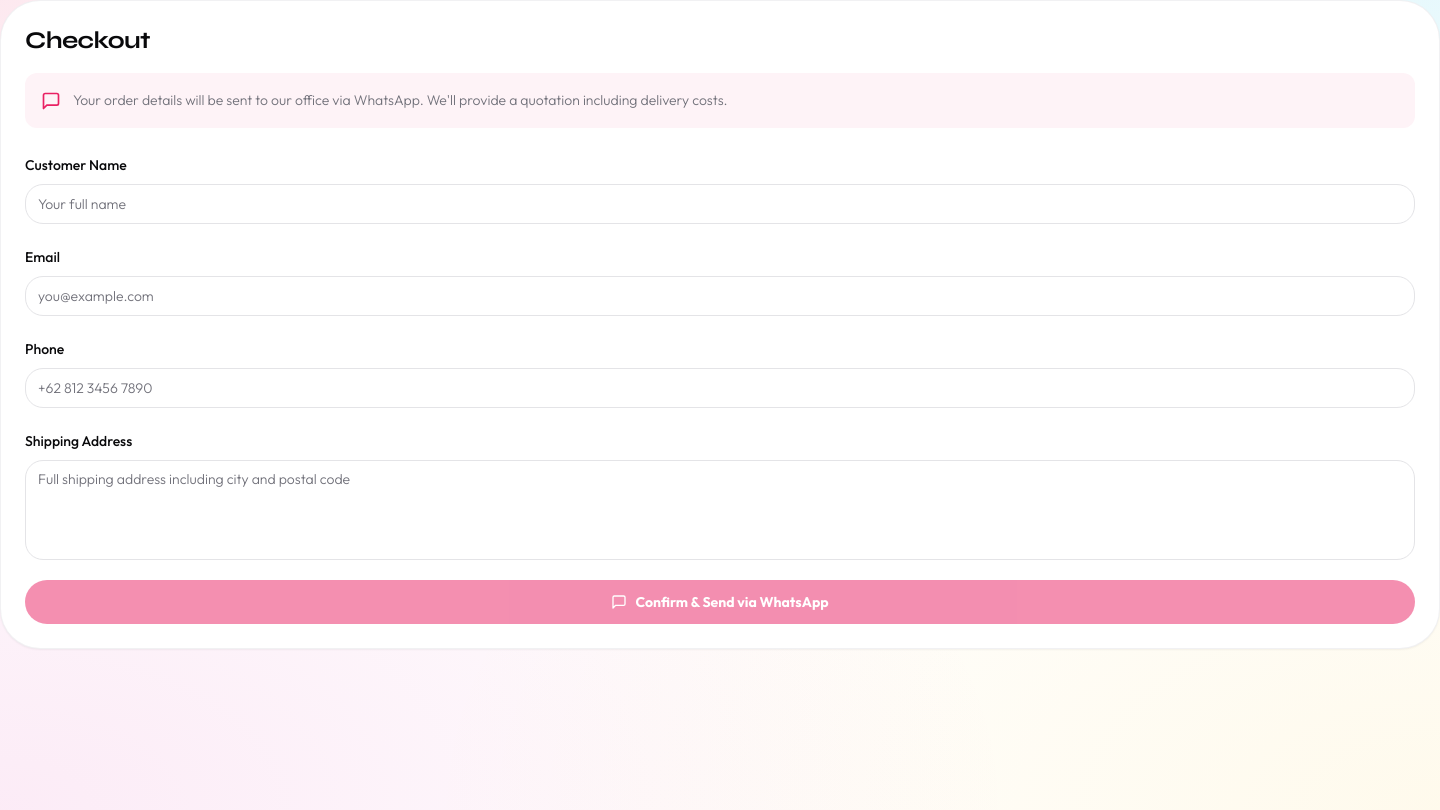
CheckoutForm › enables submit button when all fields are valid
The width and height of the screenshot is (1440, 810).
Step 1. Type "John Doe" into the field with placeholder "Your full name" → (720, 204), box x1=25 y1=184 x2=1415 y2=224
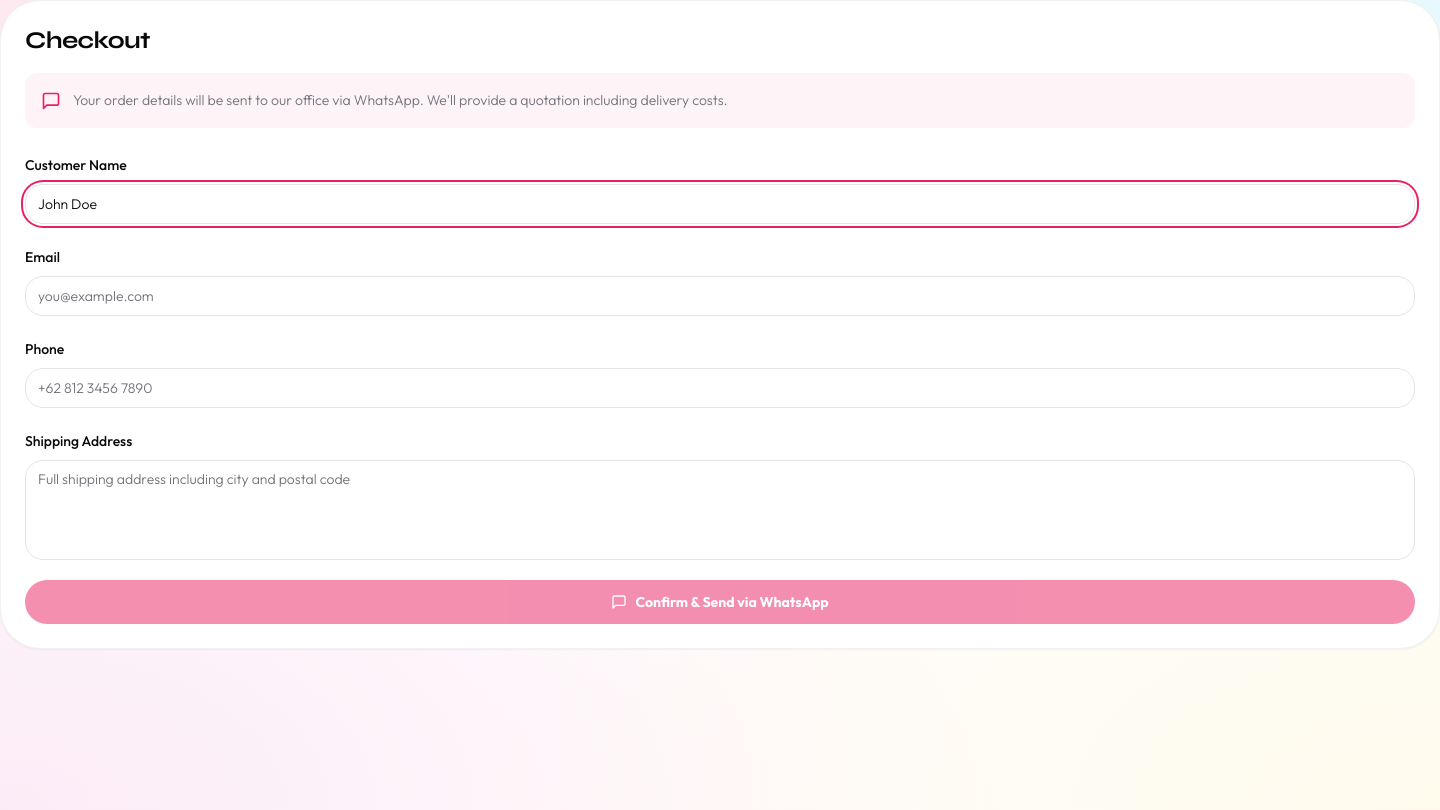
Step 2. Type "john@example.com" into the field with placeholder "you@example.com" → (720, 296), box x1=25 y1=276 x2=1415 y2=316
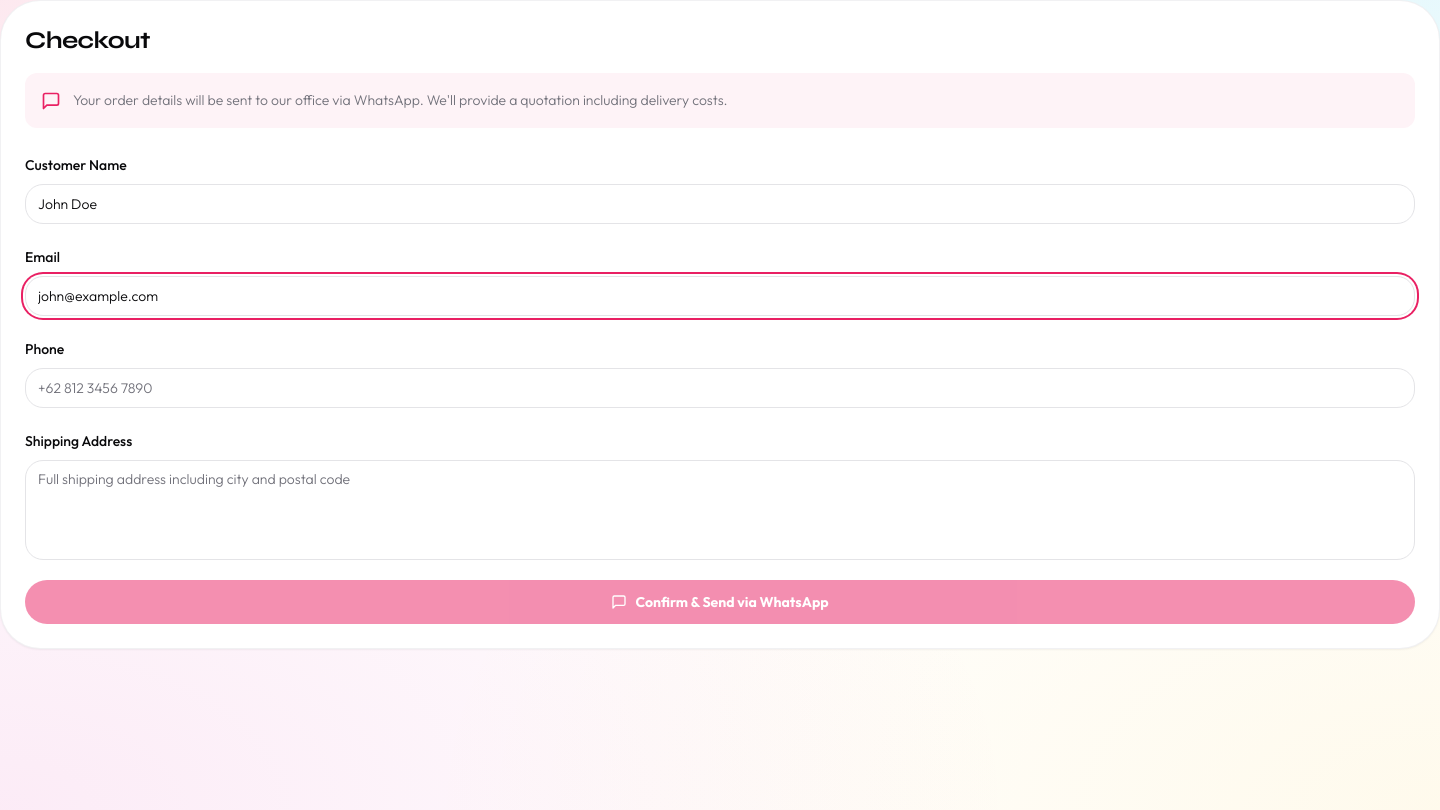
Step 3. Type "+628123456789" into the field with placeholder "+62 812 3456 7890" → (720, 388), box x1=25 y1=368 x2=1415 y2=408
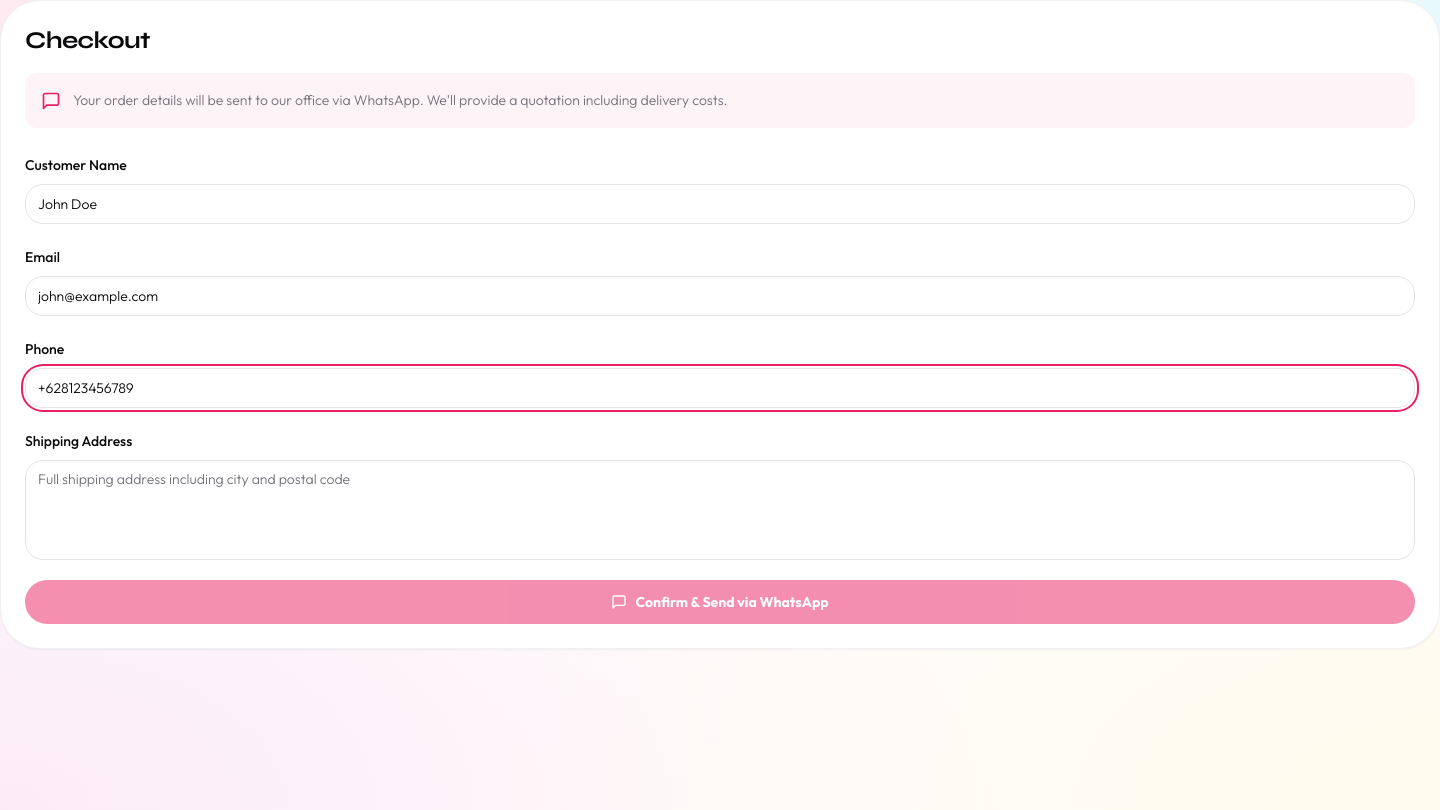
Step 4. Type "123 Main Street, Ubud, Bali 80571" into the text box with placeholder "Full shipping address including city and postal code" → (720, 510), box x1=25 y1=460 x2=1415 y2=560
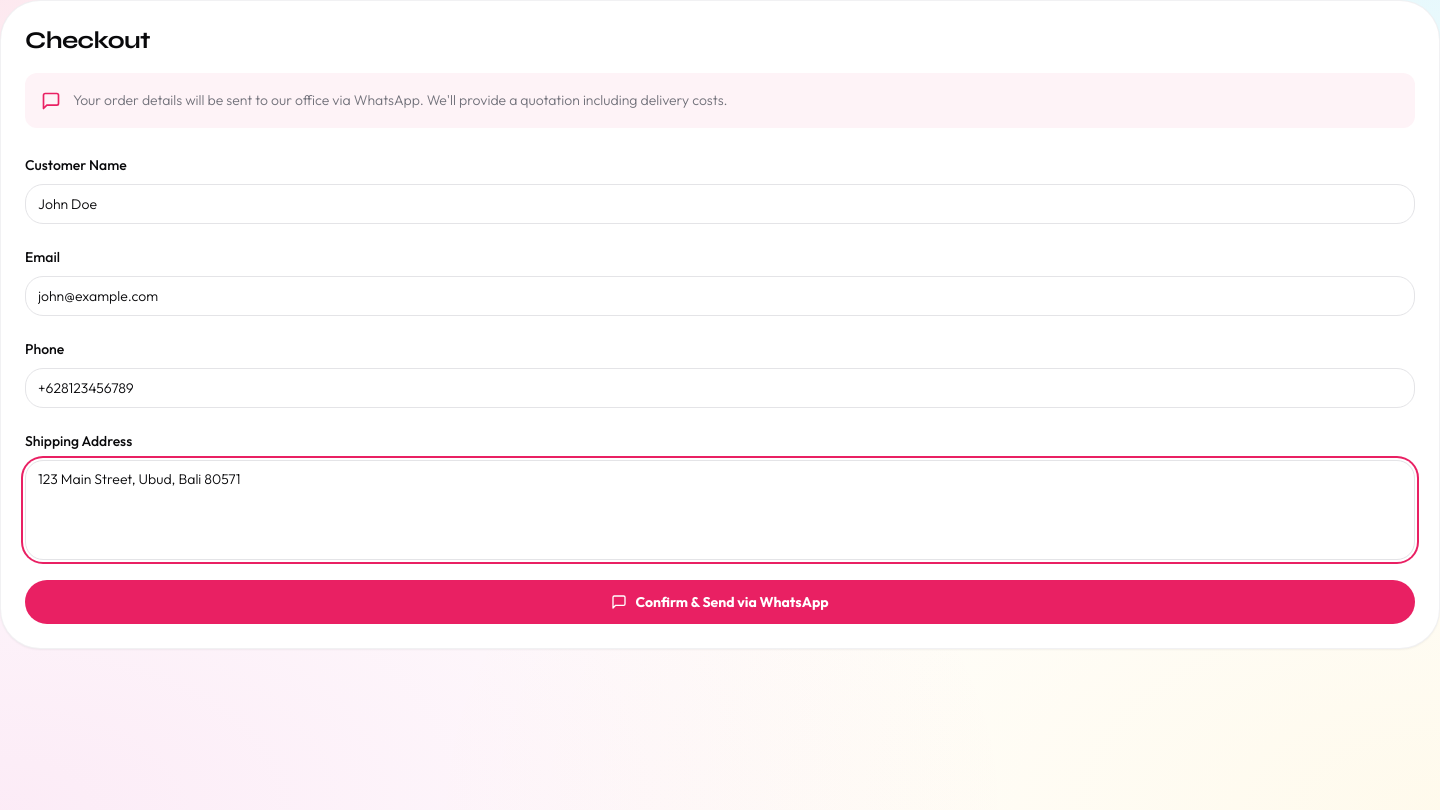
Result: the button "Confirm & Send via WhatsApp" is enabled at x1=25 y1=580 x2=1415 y2=624
